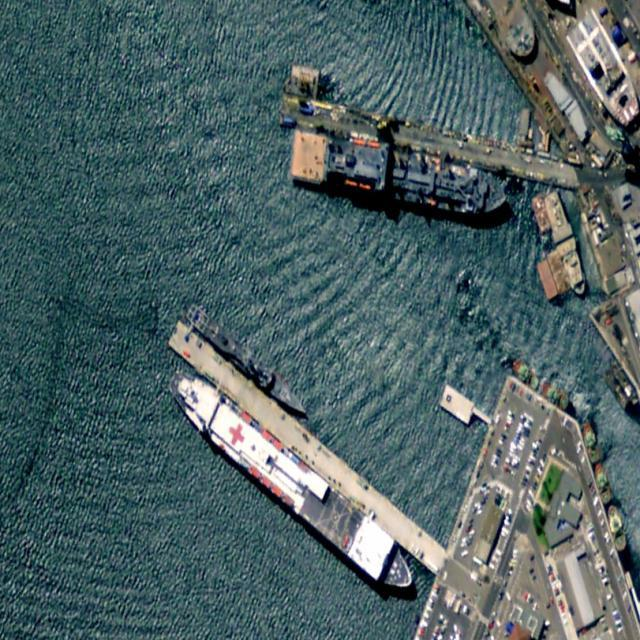Auxiliary Ships: (161, 358, 422, 603)
Commander: (289, 128, 511, 223)
Frigate: (182, 297, 314, 422)
